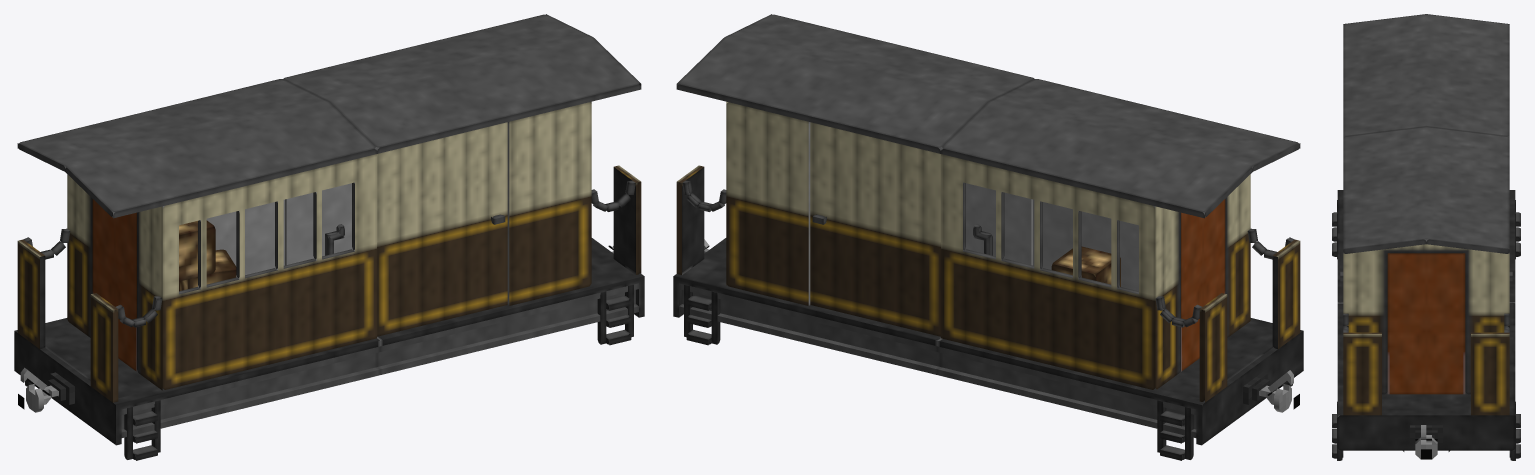
Rendered from kitsune_stormpeak_brake.obj.
The picture shows the model from 3 angles, left to right: view 1: azimuth 30°, elevation 25°; view 2: azimuth 150°, elevation 25°; view 3: azimuth 270°, elevation 25°; orthographic projection. The views are drawn at different scales.
Visible parts, largest first — view 1: SHELL_WOOD_roof_Cube.013, SHELL_WOOD.001_Cube.017, DOOR_10_EXTERNAL_TL_-1.25_X_Cube.008, SHELL_WOOD_Cube.019, SHELL_WOOD.003_Cube.034, FRAME_cab_Cube.056, FRAME.001_Cube.057, FRAME_Cube.068, SHELL_WOOD_cab_roof_Cube.043, SHELL_WOOD_cab_roof.001_Cube.042, FRAME_cab.001_Cube.054, DOOR_9_INTERIOR_Cube.028 (+7 smaller); view 2: SHELL_WOOD_roof_Cube.013, SHELL_WOOD.001_Cube.017, DOOR_9_EXTERNAL_TL_-1.25_X_Cube.027, SHELL_WOOD_Cube.019, SHELL_WOOD.003_Cube.034, FRAME_cab_Cube.056, FRAME.001_Cube.057, FRAME_Cube.068, SHELL_WOOD_cab_roof_Cube.043, SHELL_WOOD_cab_roof.001_Cube.042, SHELL_WOOD_INTERIOR.001_Cube.044, FRAME_cab.001_Cube.054 (+6 smaller); view 3: SHELL_WOOD_roof_Cube.013, SHELL_WOOD.002_Cube.026, FRAME_cab.001_Cube.054, DOOR_4_Cube.039, DOOR_3_Cube.038, SHELL_WOOD_cab_roof.001_Cube.042, SHELL_WOOD_cab_roof_Cube.043, FRAME.001_Cube.057, FRAME_Cube.068, COUPLER_ENGAGED_REAR_2_TOGGLE_LABEL_Uncouple_Cube, FRAME_cab_Cube.056.
Part boxes in pixels (x1,y1,x2,y2): SHELL_WOOD_roof_Cube.013: (70, 26, 588, 205); SHELL_WOOD.001_Cube.017: (165, 154, 376, 389); DOOR_10_EXTERNAL_TL_-1.25_X_Cube.008: (377, 122, 507, 336); SHELL_WOOD_Cube.019: (507, 102, 588, 305); SHELL_WOOD.003_Cube.034: (17, 174, 165, 402); FRAME_cab_Cube.056: (14, 318, 168, 460); FRAME.001_Cube.057: (377, 286, 592, 374); FRAME_Cube.068: (165, 338, 380, 426); SHELL_WOOD_cab_roof_Cube.043: (17, 130, 165, 218); SHELL_WOOD_cab_roof.001_Cube.042: (494, 14, 641, 102); FRAME_cab.001_Cube.054: (589, 238, 644, 345); DOOR_9_INTERIOR_Cube.028: (286, 183, 351, 264); SHELL_WOOD_roof_Cube.013: (729, 26, 1247, 205); SHELL_WOOD.001_Cube.017: (941, 154, 1152, 389); DOOR_9_EXTERNAL_TL_-1.25_X_Cube.027: (810, 122, 940, 336); SHELL_WOOD_Cube.019: (729, 102, 810, 305); SHELL_WOOD.003_Cube.034: (1152, 174, 1300, 402); FRAME_cab_Cube.056: (1149, 318, 1303, 460); FRAME.001_Cube.057: (725, 286, 940, 374); FRAME_Cube.068: (937, 338, 1152, 426); SHELL_WOOD_cab_roof_Cube.043: (1152, 130, 1300, 218); SHELL_WOOD_cab_roof.001_Cube.042: (676, 14, 823, 102); SHELL_WOOD_INTERIOR.001_Cube.044: (963, 182, 1155, 291); FRAME_cab.001_Cube.054: (673, 238, 728, 345); SHELL_WOOD_roof_Cube.013: (1343, 36, 1509, 226); SHELL_WOOD.002_Cube.026: (1343, 244, 1509, 415); FRAME_cab.001_Cube.054: (1332, 393, 1520, 460); DOOR_4_Cube.039: (1426, 253, 1465, 394); DOOR_3_Cube.038: (1387, 253, 1426, 394); SHELL_WOOD_cab_roof.001_Cube.042: (1343, 217, 1509, 253); SHELL_WOOD_cab_roof_Cube.043: (1343, 14, 1509, 46); FRAME.001_Cube.057: (1337, 302, 1515, 392); FRAME_Cube.068: (1337, 212, 1515, 303); COUPLER_ENGAGED_REAR_2_TOGGLE_LABEL_Uncouple_Cube: (1410, 425, 1442, 459); FRAME_cab_Cube.056: (1332, 190, 1520, 259).
Size of the model in its own units: 7 by 2.94 by 2.13.
Materials: 5 (5 with a texture image).
